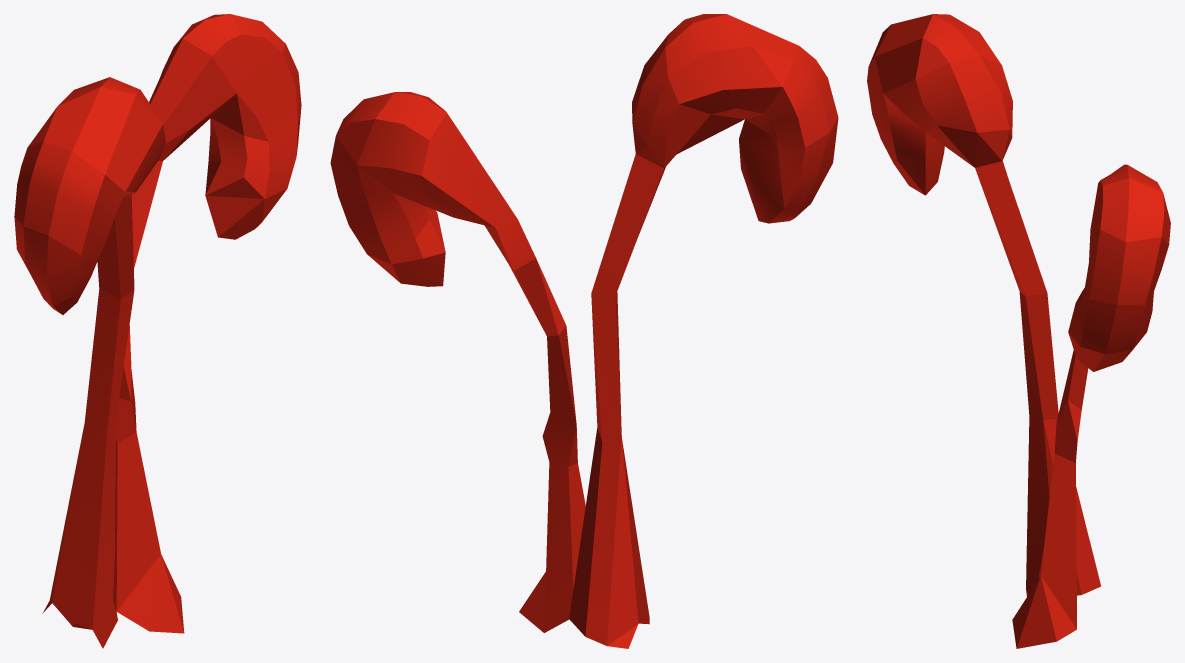
The model's file is MF_Fern_noLeaves.FBX.
The picture shows the model from 3 angles, left to right: view 1: azimuth 30°, elevation 25°; view 2: azimuth 150°, elevation 25°; view 3: azimuth 270°, elevation 25°; orthographic projection. The views are drawn at different scales.
Parts seen in each view (by area): view 1: Fern_noLeaves; view 2: Fern_noLeaves; view 3: Fern_noLeaves.
Boxes of the visible parts, x1=… form: Fern_noLeaves: x1=14, y1=14, x2=301, y2=648; Fern_noLeaves: x1=330, y1=14, x2=838, y2=648; Fern_noLeaves: x1=867, y1=14, x2=1170, y2=648.
Size of the model in its own units: 1.05 by 0.7523 by 1.58.
